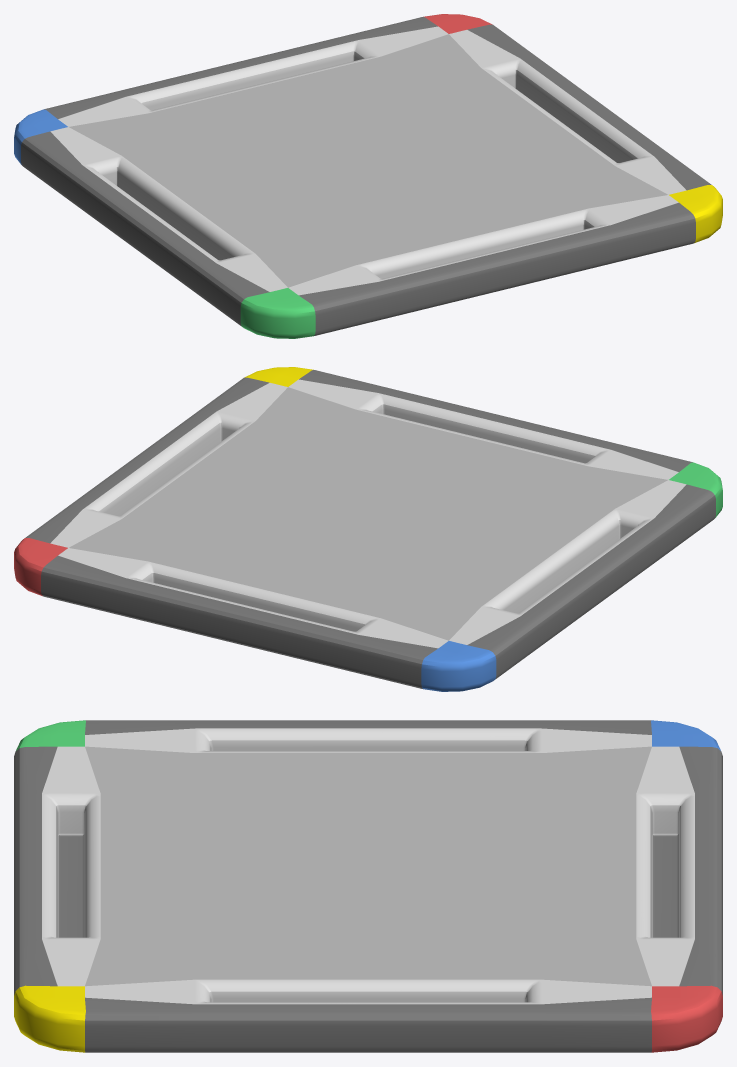
Rendered from platform.glb.
3 renders of one model, top to bottom at view 1: azimuth 30°, elevation 25°; view 2: azimuth 150°, elevation 25°; view 3: azimuth 270°, elevation 25°, orthographic. The views are drawn at different scales.
Visible parts, largest first — view 1: pCube2:PIV; view 2: pCube2:PIV; view 3: pCube2:PIV.
Boxes of the visible parts, box(x1,y1,x2,y2) form: pCube2:PIV: box(14, 14, 722, 338); pCube2:PIV: box(14, 367, 722, 691); pCube2:PIV: box(14, 720, 722, 1052).
Size of the model in its own units: 16 by 1 by 16.
